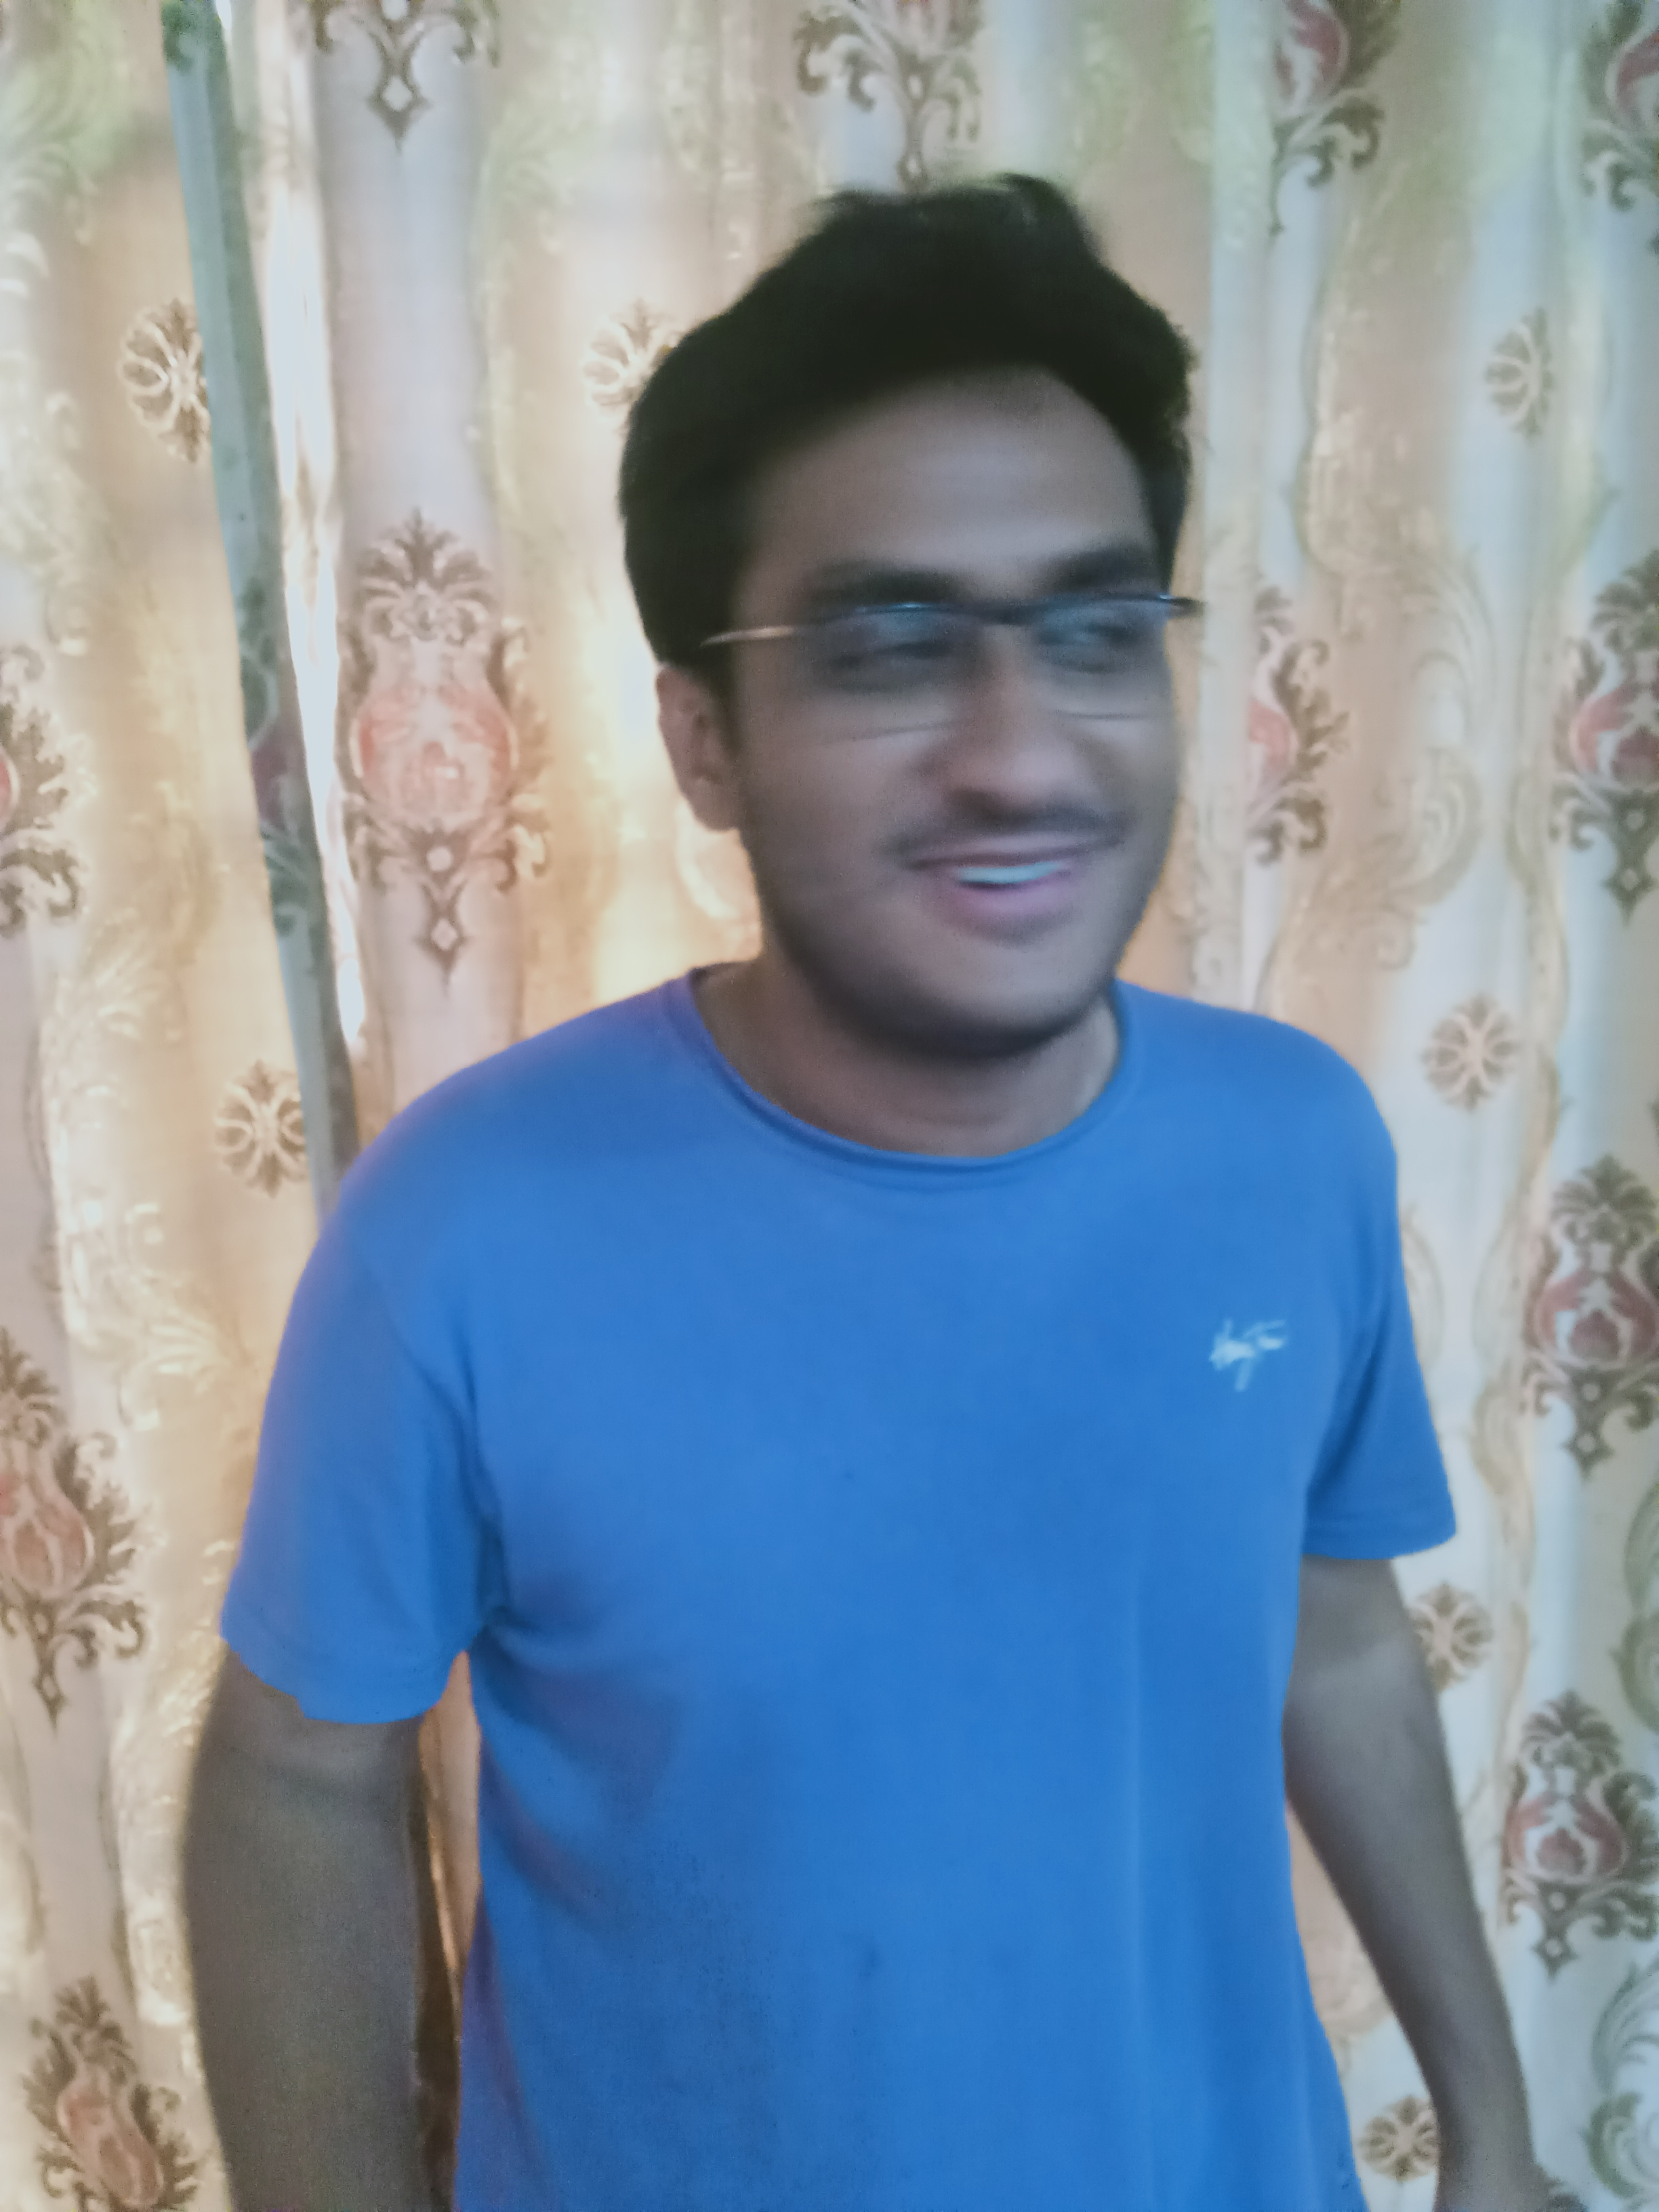NoMask: (769, 527, 1175, 1042)
